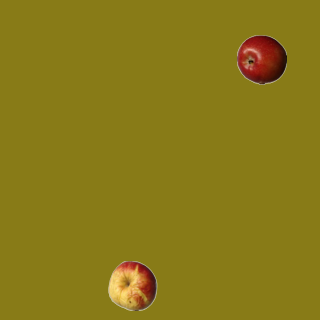Apple Braeburn: (236, 34, 286, 84)
Apple Red Yellow 1: (107, 260, 157, 310)
